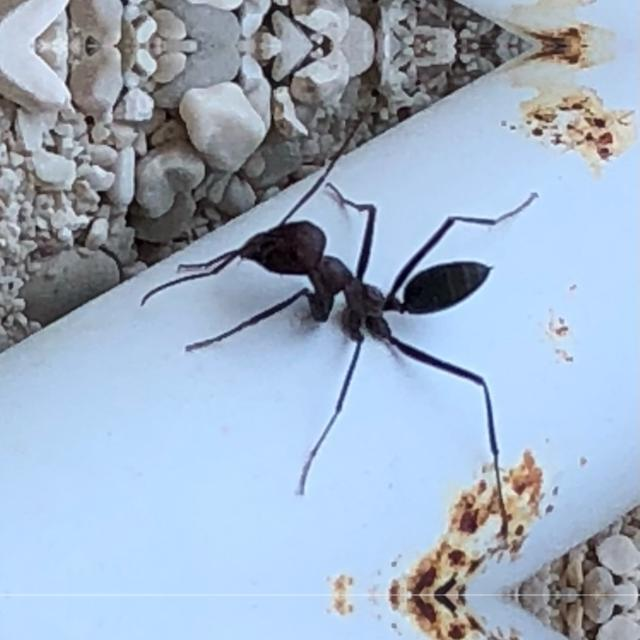Cataglyphis: (206, 177, 526, 411)
